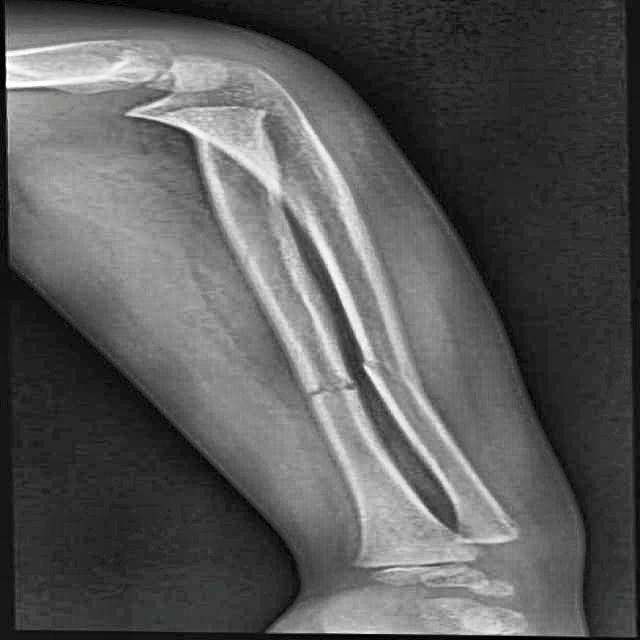Oblique Displaced: (361, 353, 455, 403)
Transverse Displaced: (282, 367, 375, 416)
